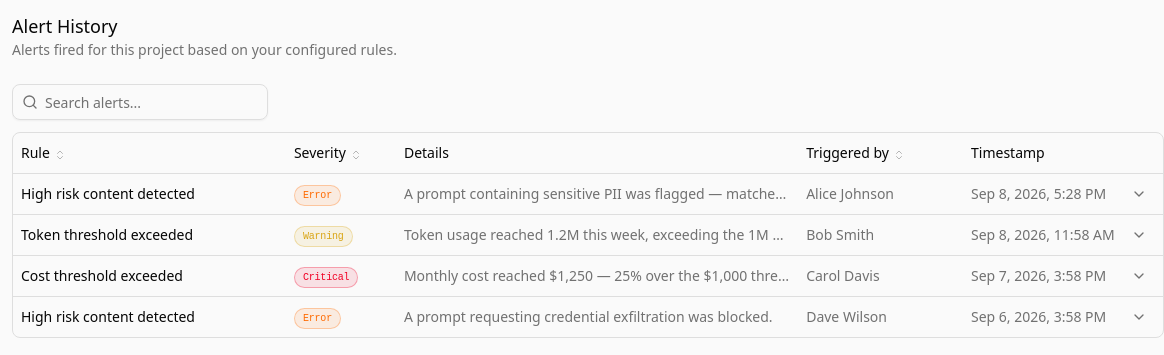
Test: ProjectAlertsTab › Search › filters rows by title
Type "cost" into the field labelled "Search alerts..." at (140, 102), box [12,84,268,120]
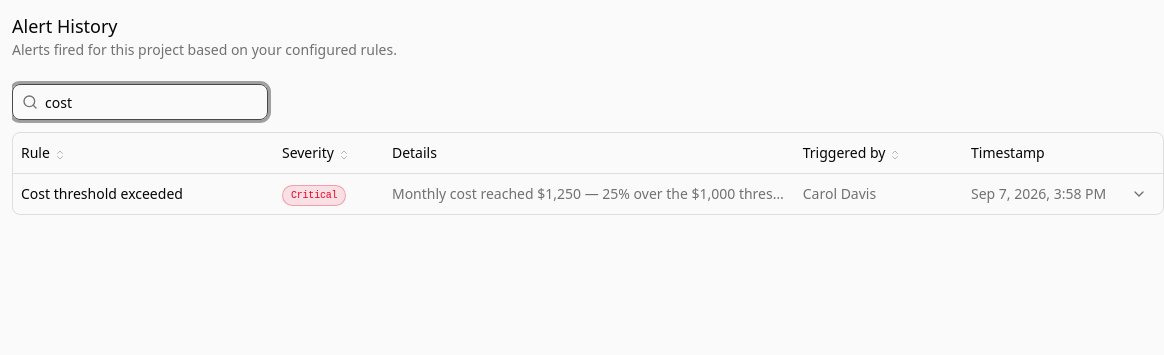
Expected: the text "Cost threshold exceeded" is shown, [13,173,274,214]
Now the text "Token threshold exceeded" is gone
